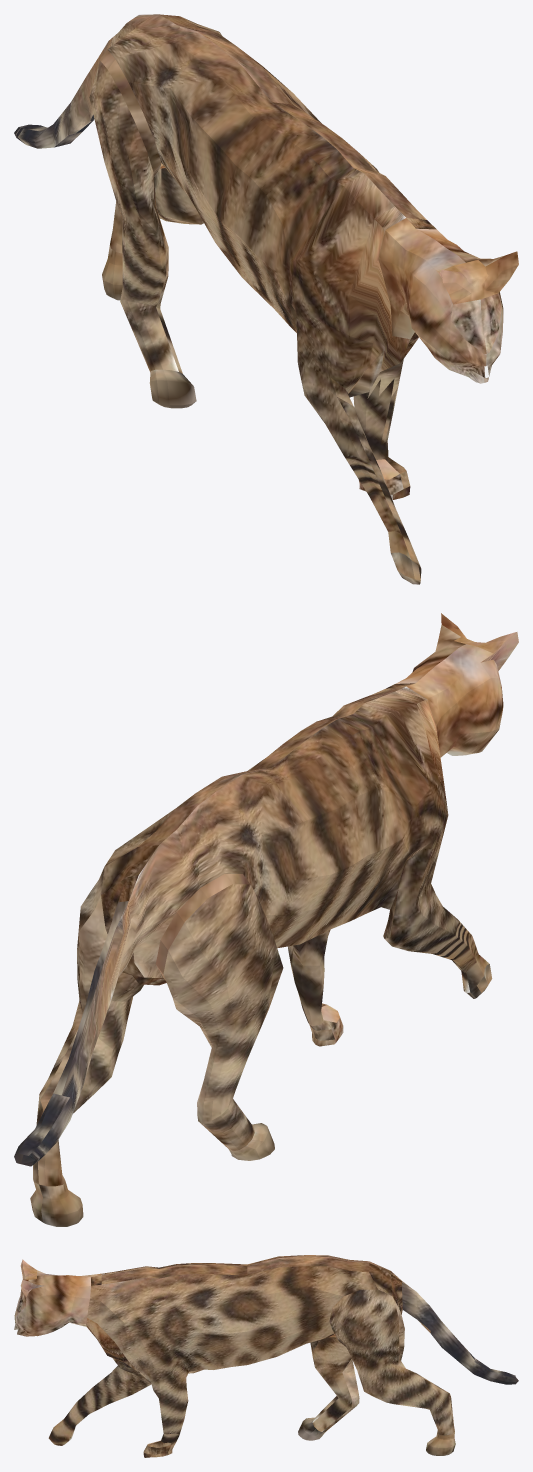
File: animal.glb
3 views of the same model, one above another, from view 1: azimuth 30°, elevation 25°; view 2: azimuth 150°, elevation 25°; view 3: azimuth 270°, elevation 25° (orthographic). The views are drawn at different scales.
Visible parts, largest first — view 1: Plane; view 2: Plane; view 3: Plane.
Boxes of the visible parts, left/top/right/bottom form: Plane: left=14, top=14, right=518, bottom=584; Plane: left=14, top=613, right=518, bottom=1226; Plane: left=14, top=1255, right=518, bottom=1457.
Bounding box in the file's own units: 1.5 × 3.67 × 8.52.
Materials: 1 (1 with a texture image).
